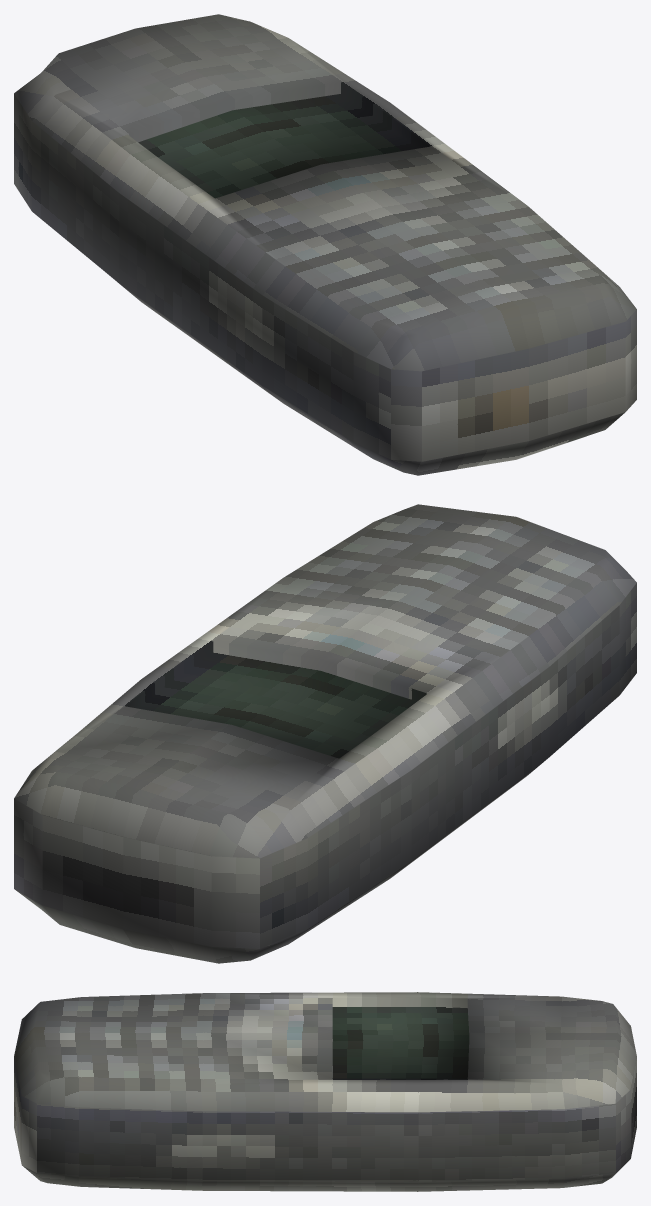
Rendered from cell_phone_1.glb.
3 views of the same model, one above another, from view 1: azimuth 30°, elevation 25°; view 2: azimuth 150°, elevation 25°; view 3: azimuth 270°, elevation 25° (orthographic). The views are drawn at different scales.
Parts seen in each view (by area): view 1: cell_phone_1; view 2: cell_phone_1; view 3: cell_phone_1.
Part boxes in pixels (x1=…): cell_phone_1: x1=14, y1=14, x2=636, y2=475; cell_phone_1: x1=14, y1=504, x2=636, y2=963; cell_phone_1: x1=14, y1=992, x2=636, y2=1191.
Bounding box in the file's own units: 0.0877 × 0.0437 × 0.2106.
Materials: 1 (1 with a texture image).
